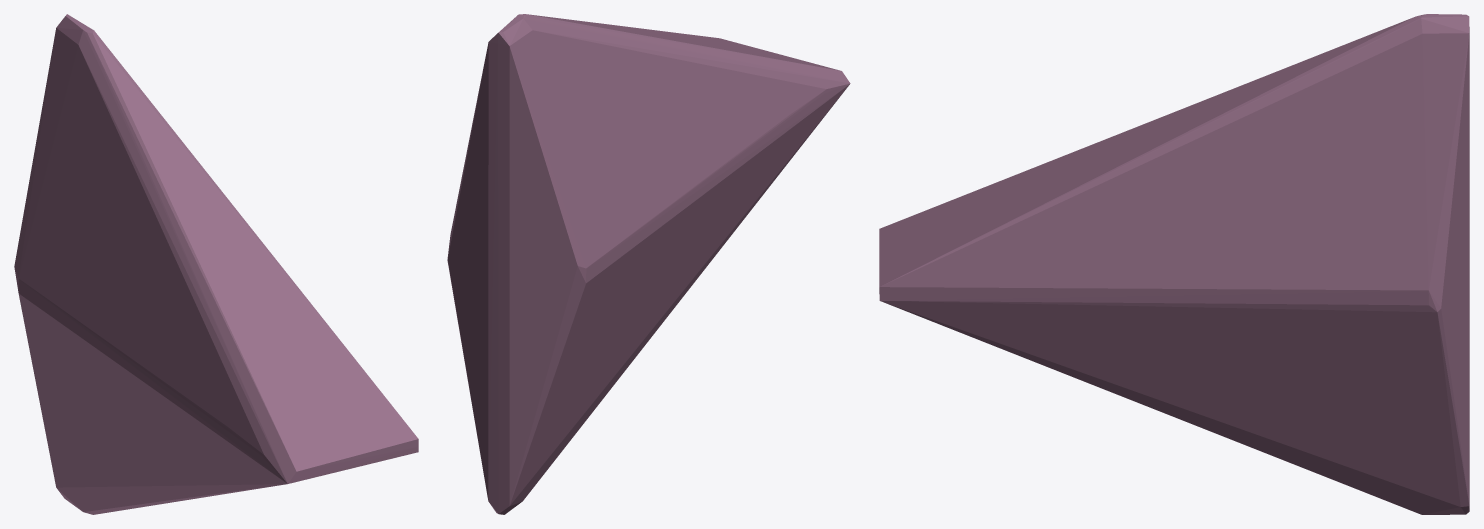
The model's file is storage_tire_rack_d01.glb.
3 renders of one model, left to right at view 1: azimuth 30°, elevation 25°; view 2: azimuth 150°, elevation 25°; view 3: azimuth 270°, elevation 25°, orthographic. The views are drawn at different scales.
Parts seen in each view (by area): view 1: geometry_0; view 2: geometry_0; view 3: geometry_0.
Boxes of the visible parts, x1=… form: geometry_0: x1=14, y1=14, x2=418, y2=514; geometry_0: x1=447, y1=14, x2=850, y2=514; geometry_0: x1=879, y1=14, x2=1469, y2=514.
Bounding box in the file's own units: 0.1314 × 0.446 × 0.48.
